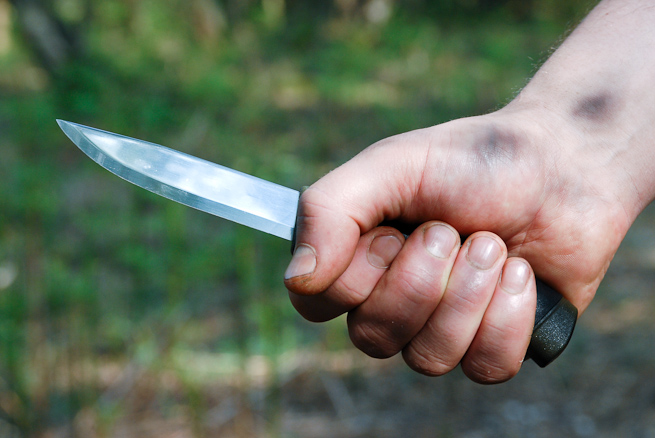knife: (51, 108, 587, 379)
